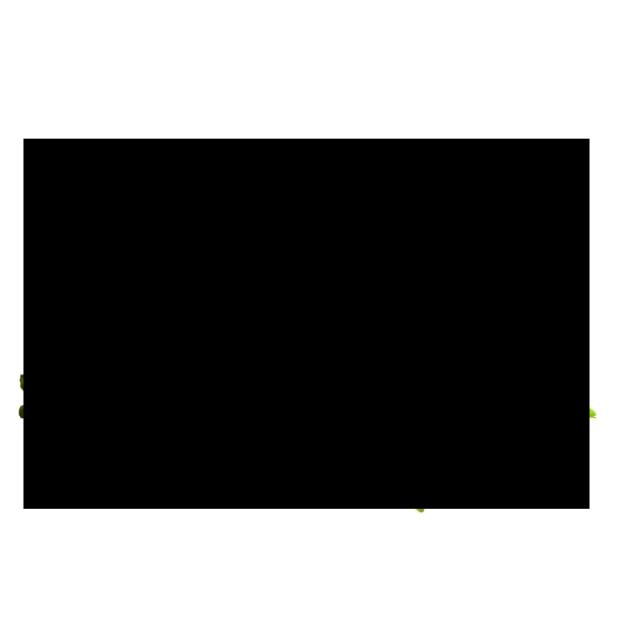Sajjyun: (24, 139, 590, 509)
